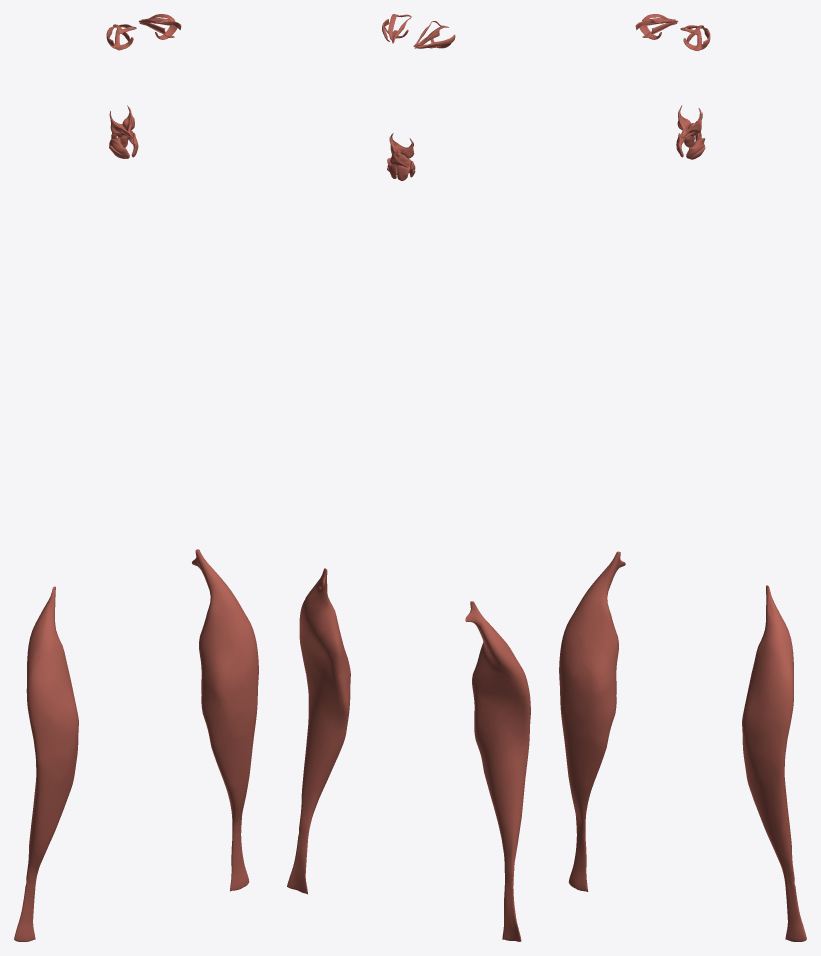
File: muscular.glb
The picture shows the model from 3 angles, left to right: view 1: azimuth 30°, elevation 25°; view 2: azimuth 150°, elevation 25°; view 3: azimuth 330°, elevation 25°; orthographic projection.
Parts seen in each view (by area): view 1: Left rectus femoris, Right rectus femoris, Tendon of right quadriceps femoris, Tendon of left quadriceps femoris; view 2: Right rectus femoris, Left rectus femoris, Tendon of left quadriceps femoris, Tendon of right quadriceps femoris; view 3: Right rectus femoris, Left rectus femoris, Tendon of left quadriceps femoris, Tendon of right quadriceps femoris.
Part boxes in pixels (bbox=[...]): Left rectus femoris: bbox=[192, 549, 258, 833]; Right rectus femoris: bbox=[26, 586, 78, 883]; Tendon of right quadriceps femoris: bbox=[14, 880, 36, 941]; Tendon of left quadriceps femoris: bbox=[230, 827, 249, 891]; Right rectus femoris: bbox=[465, 601, 530, 882]; Left rectus femoris: bbox=[299, 568, 350, 835]; Tendon of left quadriceps femoris: bbox=[287, 830, 308, 894]; Tendon of right quadriceps femoris: bbox=[502, 879, 521, 941]; Right rectus femoris: bbox=[559, 551, 625, 834]; Left rectus femoris: bbox=[742, 585, 794, 883]; Tendon of left quadriceps femoris: bbox=[785, 880, 806, 941]; Tendon of right quadriceps femoris: bbox=[568, 828, 588, 891].
Size of the model in its own units: 0.3081 by 1.12 by 0.0713.
